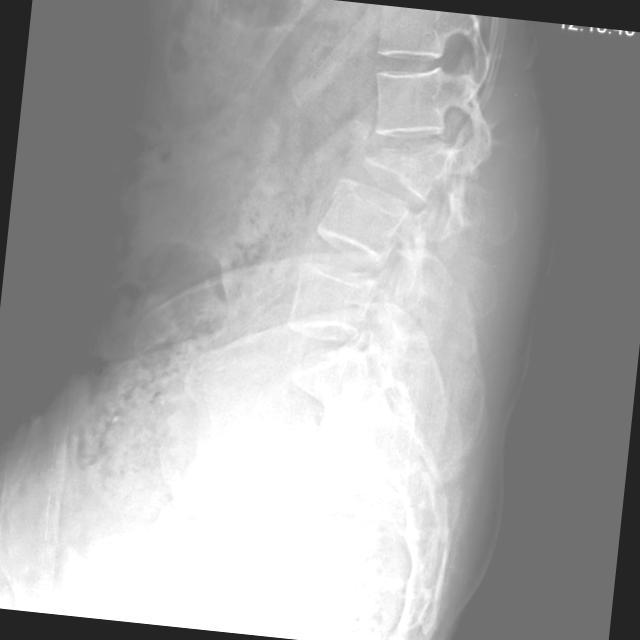Compression-Crush Fracutre: (352, 134, 466, 207)
